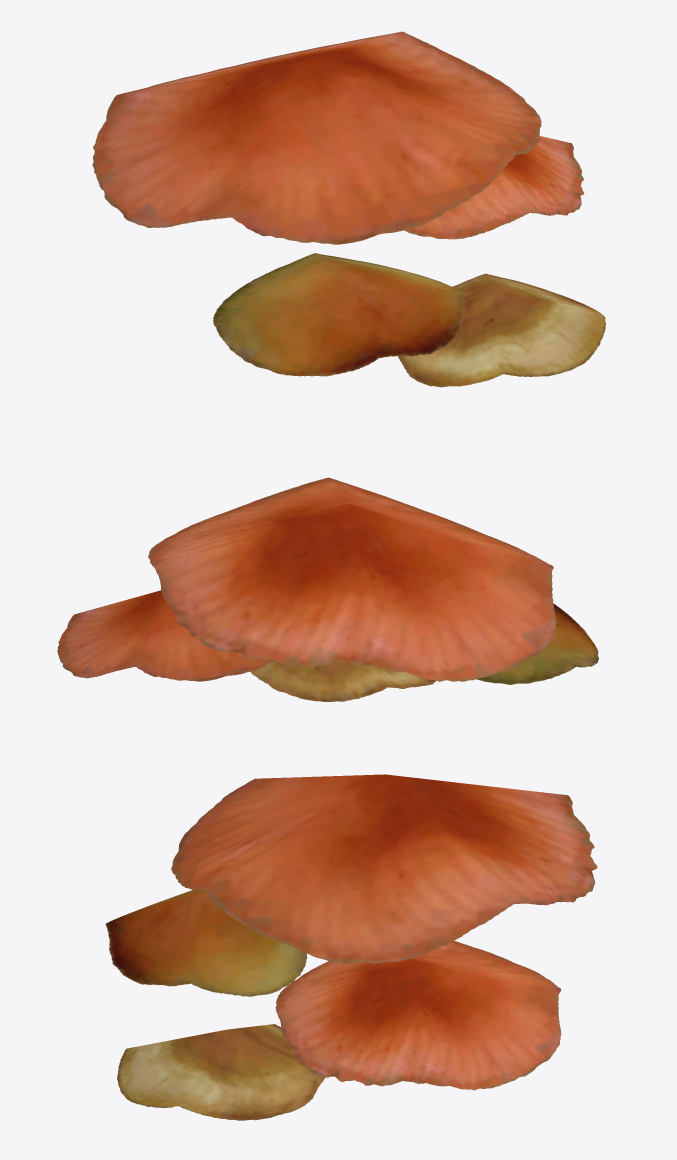
The model's file is fngi_mushroom_clump_l2.fbx.
3 views of the same model, one above another, from view 1: azimuth 30°, elevation 25°; view 2: azimuth 150°, elevation 25°; view 3: azimuth 270°, elevation 25° (orthographic). The views are drawn at different scales.
Visible parts, largest first — view 1: mesh_node; view 2: mesh_node; view 3: mesh_node.
Part boxes in pixels (<box>): mesh_node: <box>92,31,605,387</box>; mesh_node: <box>57,477,598,701</box>; mesh_node: <box>105,774,597,1120</box>.
Size of the model in its own units: 0.7979 by 0.3467 by 0.7726.
